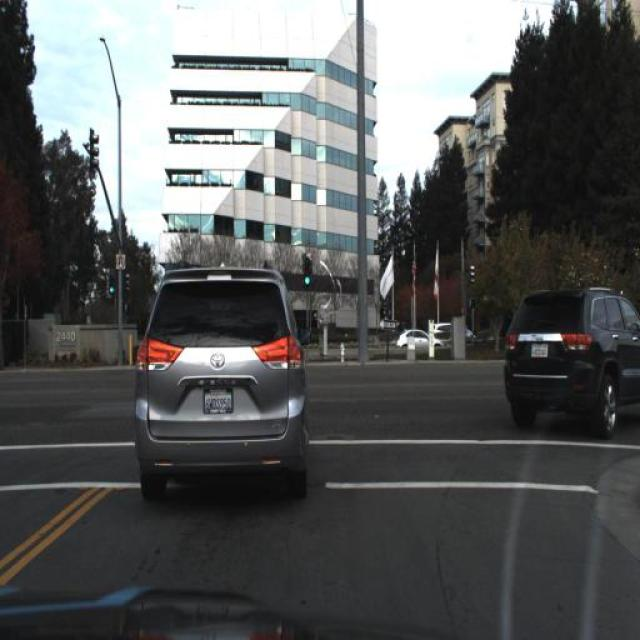car: (129, 258, 313, 513), (501, 272, 638, 442), (431, 319, 475, 355), (396, 325, 446, 355)
trafficLight-GreenLeft: (296, 233, 320, 308), (97, 262, 118, 309), (300, 249, 312, 291), (104, 270, 117, 300)
